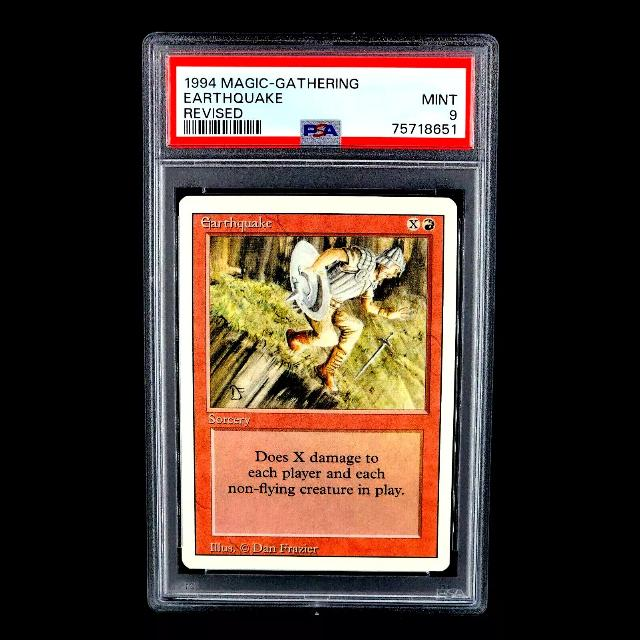card: (179, 195, 459, 572)
psa_label: (166, 55, 473, 147)
psa_slab: (142, 31, 500, 616)
